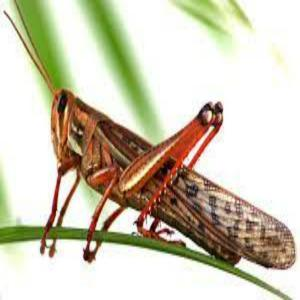locust: (46, 74, 300, 274)
